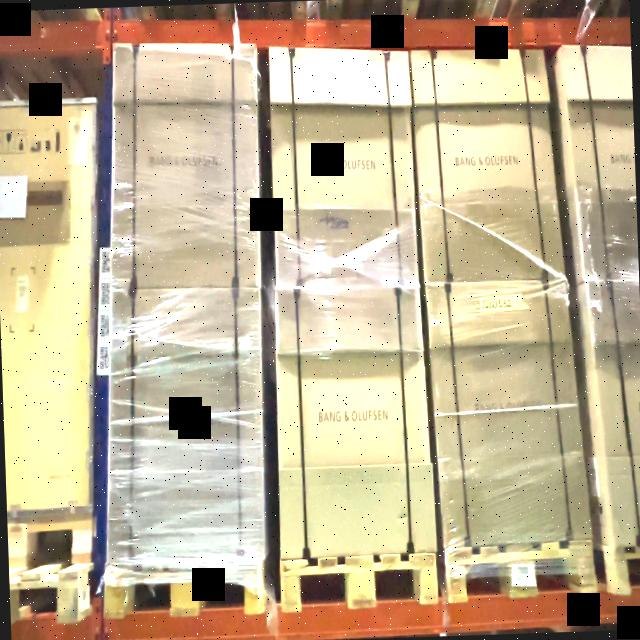box: (276, 288, 428, 552), (432, 286, 580, 546), (112, 298, 262, 552), (112, 44, 258, 290), (271, 51, 414, 282), (417, 50, 556, 278)
